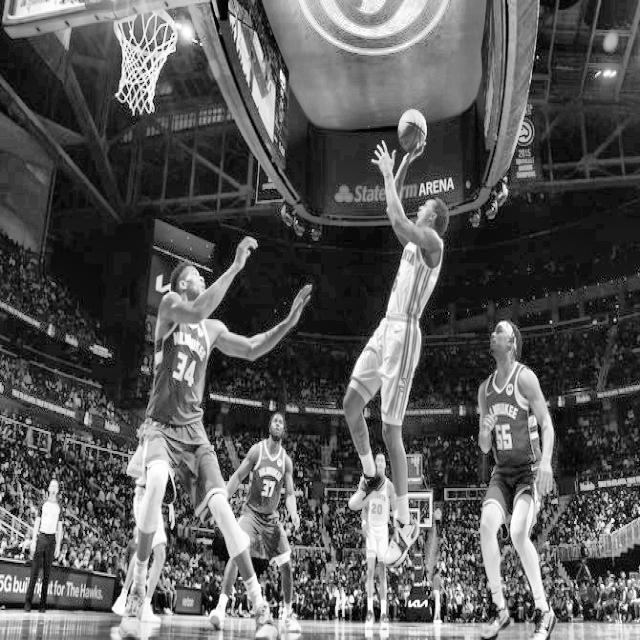Basketball: (399, 109, 427, 151)
